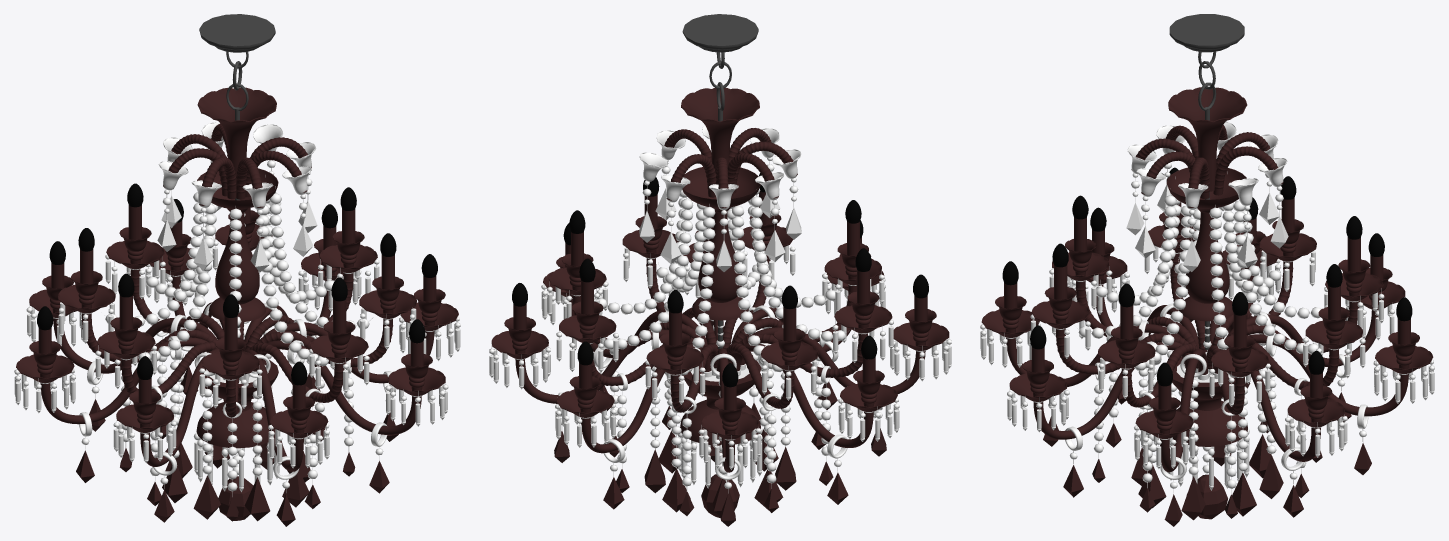
The model's file is ceiling_lamp.FBX.
3 views of the same model, side by side, from view 1: azimuth 30°, elevation 25°; view 2: azimuth 150°, elevation 25°; view 3: azimuth 270°, elevation 25° (orthographic).
Parts seen in each view (by area): view 1: Shape89, Shape88, Line909, Line758, Loft43, Loft46, Loft45, Loft51, Loft53, Loft47, Loft44, Shape125 (+43 smaller); view 2: Shape89, Shape88, Line909, Loft46, Loft48, Line758, Loft45, Loft50, Loft41, Loft49, Shape99, Shape121 (+36 smaller); view 3: Shape89, Shape88, Line909, Line758, Loft43, Loft42, Loft48, Loft41, Loft47, Loft53, Loft39, Hedra53 (+40 smaller).
Part boxes in pixels (box(x1,y1,x2,y2)): Shape89: box(197, 168, 278, 321); Shape88: box(197, 87, 276, 180); Line909: box(199, 14, 275, 52); Line758: box(196, 399, 269, 448); Loft43: box(253, 340, 421, 434); Loft46: box(40, 337, 209, 424); Loft45: box(140, 348, 219, 466); Loft51: box(121, 342, 217, 394); Loft53: box(249, 343, 344, 402); Loft47: box(53, 318, 217, 373); Loft44: box(245, 349, 303, 471); Shape125: box(202, 351, 259, 379); Shape89: box(682, 167, 760, 320); Shape88: box(681, 87, 759, 173); Line909: box(682, 14, 758, 52); Loft46: box(732, 343, 873, 447); Loft48: box(581, 344, 711, 453); Line758: box(680, 397, 760, 445); Loft45: box(741, 327, 925, 393); Loft50: box(726, 343, 794, 408); Loft41: box(515, 329, 691, 403); Loft49: box(670, 344, 718, 412); Shape99: box(491, 330, 548, 359); Shape121: box(761, 342, 818, 370); Shape89: box(1166, 167, 1246, 321); Shape88: box(1168, 87, 1247, 191); Line909: box(1169, 14, 1244, 52); Line758: box(1173, 398, 1247, 446); Loft43: box(1033, 341, 1189, 439); Loft42: box(1160, 349, 1207, 472); Loft48: box(1248, 334, 1408, 416); Loft41: box(1214, 348, 1320, 461); Loft47: box(1226, 310, 1378, 366); Loft53: box(1055, 329, 1188, 374); Loft39: box(1213, 146, 1283, 195); Hedra53: box(1197, 474, 1227, 519).
Bounding box in the file's own units: 915 × 1084 × 915.
